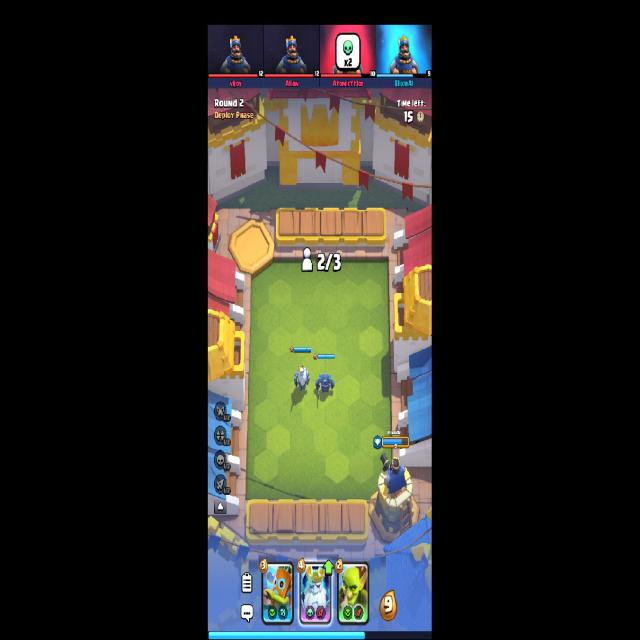card_dart_goblin: (261, 562, 293, 625)
card_goblin: (336, 562, 369, 626)
card_royal_ghost: (298, 560, 332, 624)
mini_pekka: (316, 373, 336, 401)
royal_ghost: (293, 364, 310, 392)
